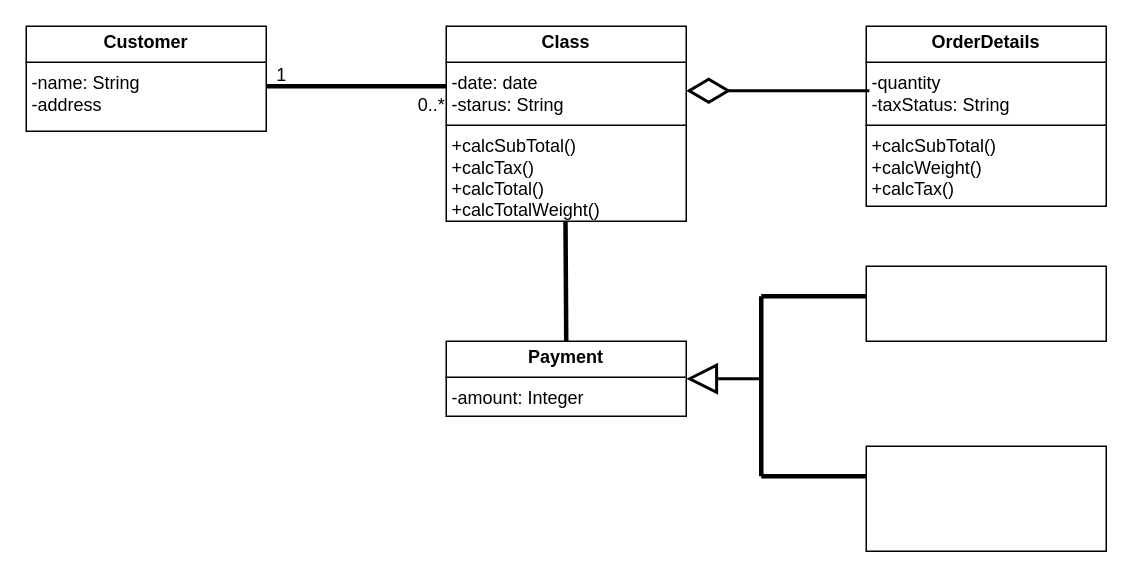
This 1133x578 diagram has some shape labels left out. Here are the shapes that lost their labels. From the top down, the centre of each, then its label:
At point 985,303: "Cash -amount: Integer".
At point 985,498: "Card -amount: Integer -cardNumber: Long".
